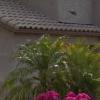Palm tree: (15, 33, 96, 86)
